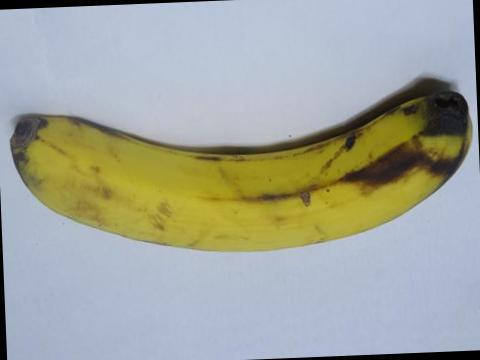ripe: (3, 63, 479, 276)
